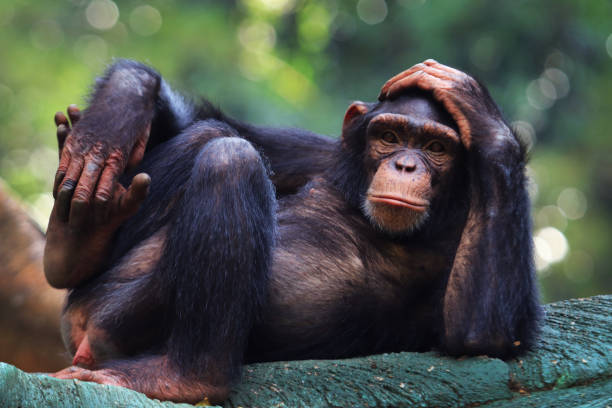chimpanzee: (337, 48, 517, 253)
